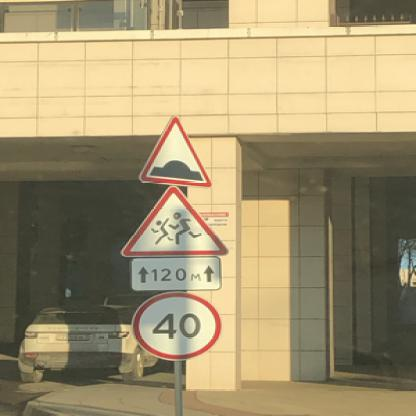speedlimit: (130, 290, 220, 359)
